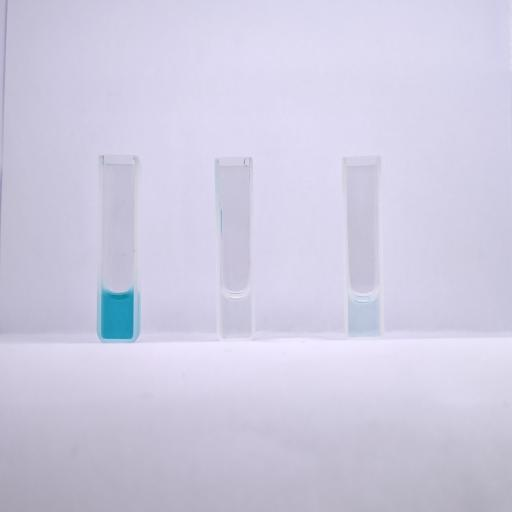cuvette: (96, 152, 144, 345), (340, 153, 386, 343), (212, 154, 256, 344)
liquid: (102, 290, 134, 338), (222, 288, 250, 338), (349, 291, 379, 335)
